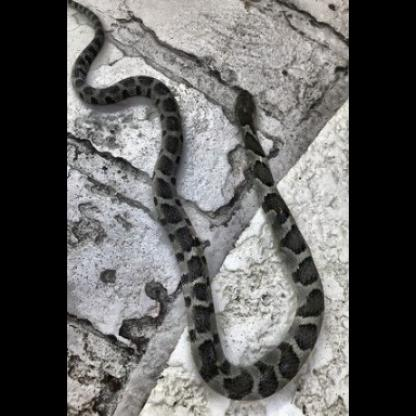Snake: (64, 8, 339, 411)
